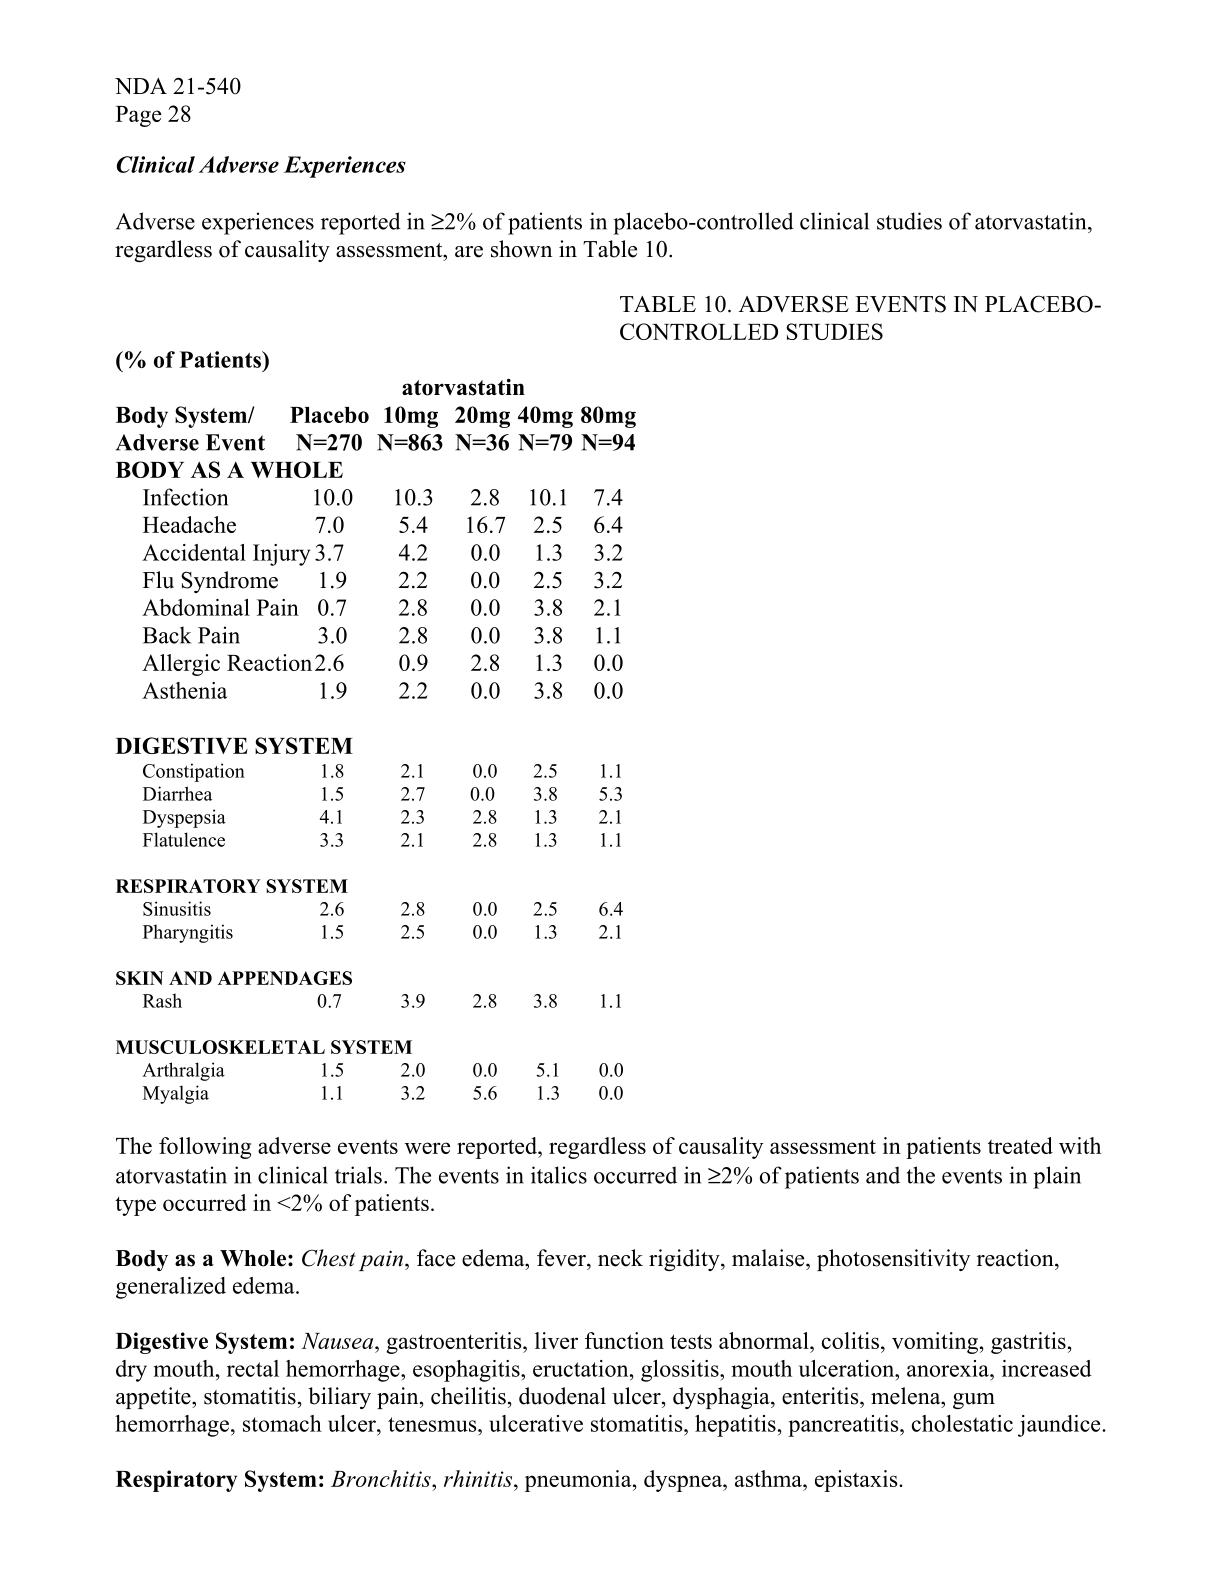nolines: (111, 400, 642, 1110)
